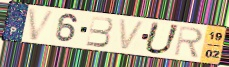6: (55, 13, 79, 44)
B: (85, 15, 114, 48)
R: (173, 25, 205, 60)
U: (142, 21, 182, 56)
V: (27, 7, 58, 42), (117, 17, 147, 52)
